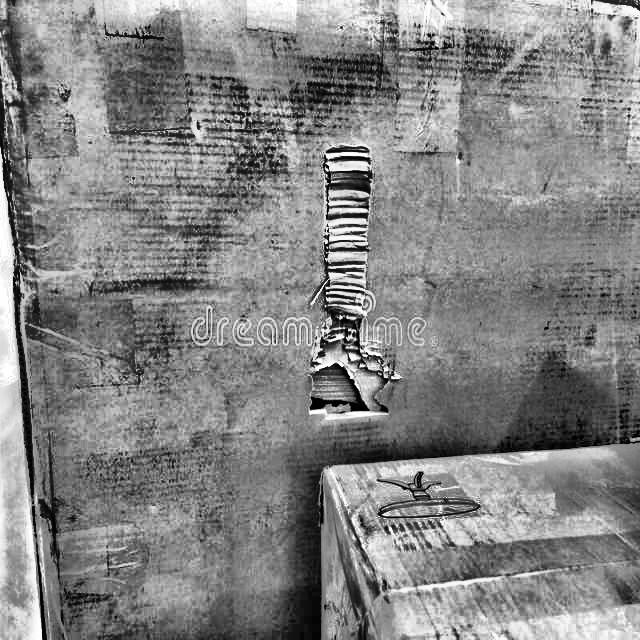box: (0, 0, 640, 640)
hole: (307, 318, 397, 440)
